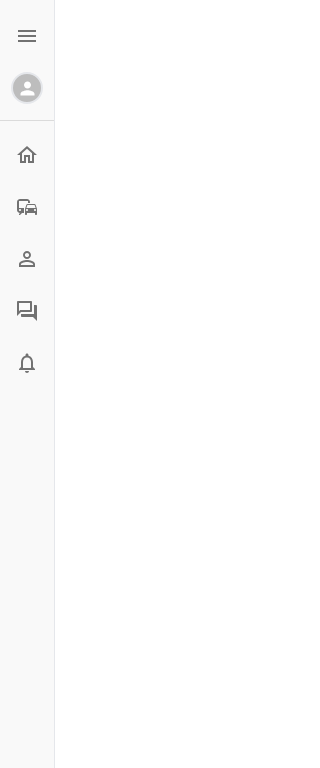
Test: Sidebar › opens when menu button is clicked
Click the button with test id "MenuIcon".
click(27, 36)  # box [7, 16, 47, 56]
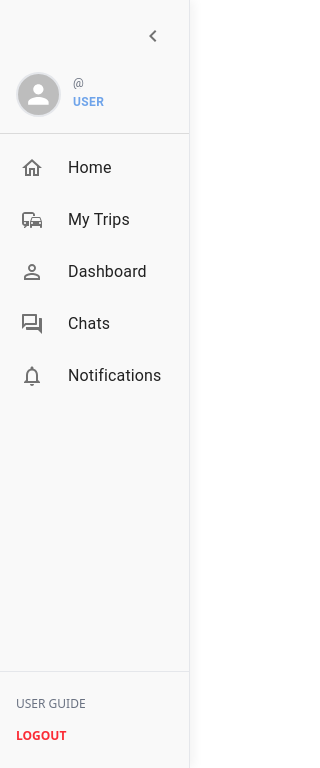
Expected: the text "Home" is shown, [68, 158, 112, 177]
